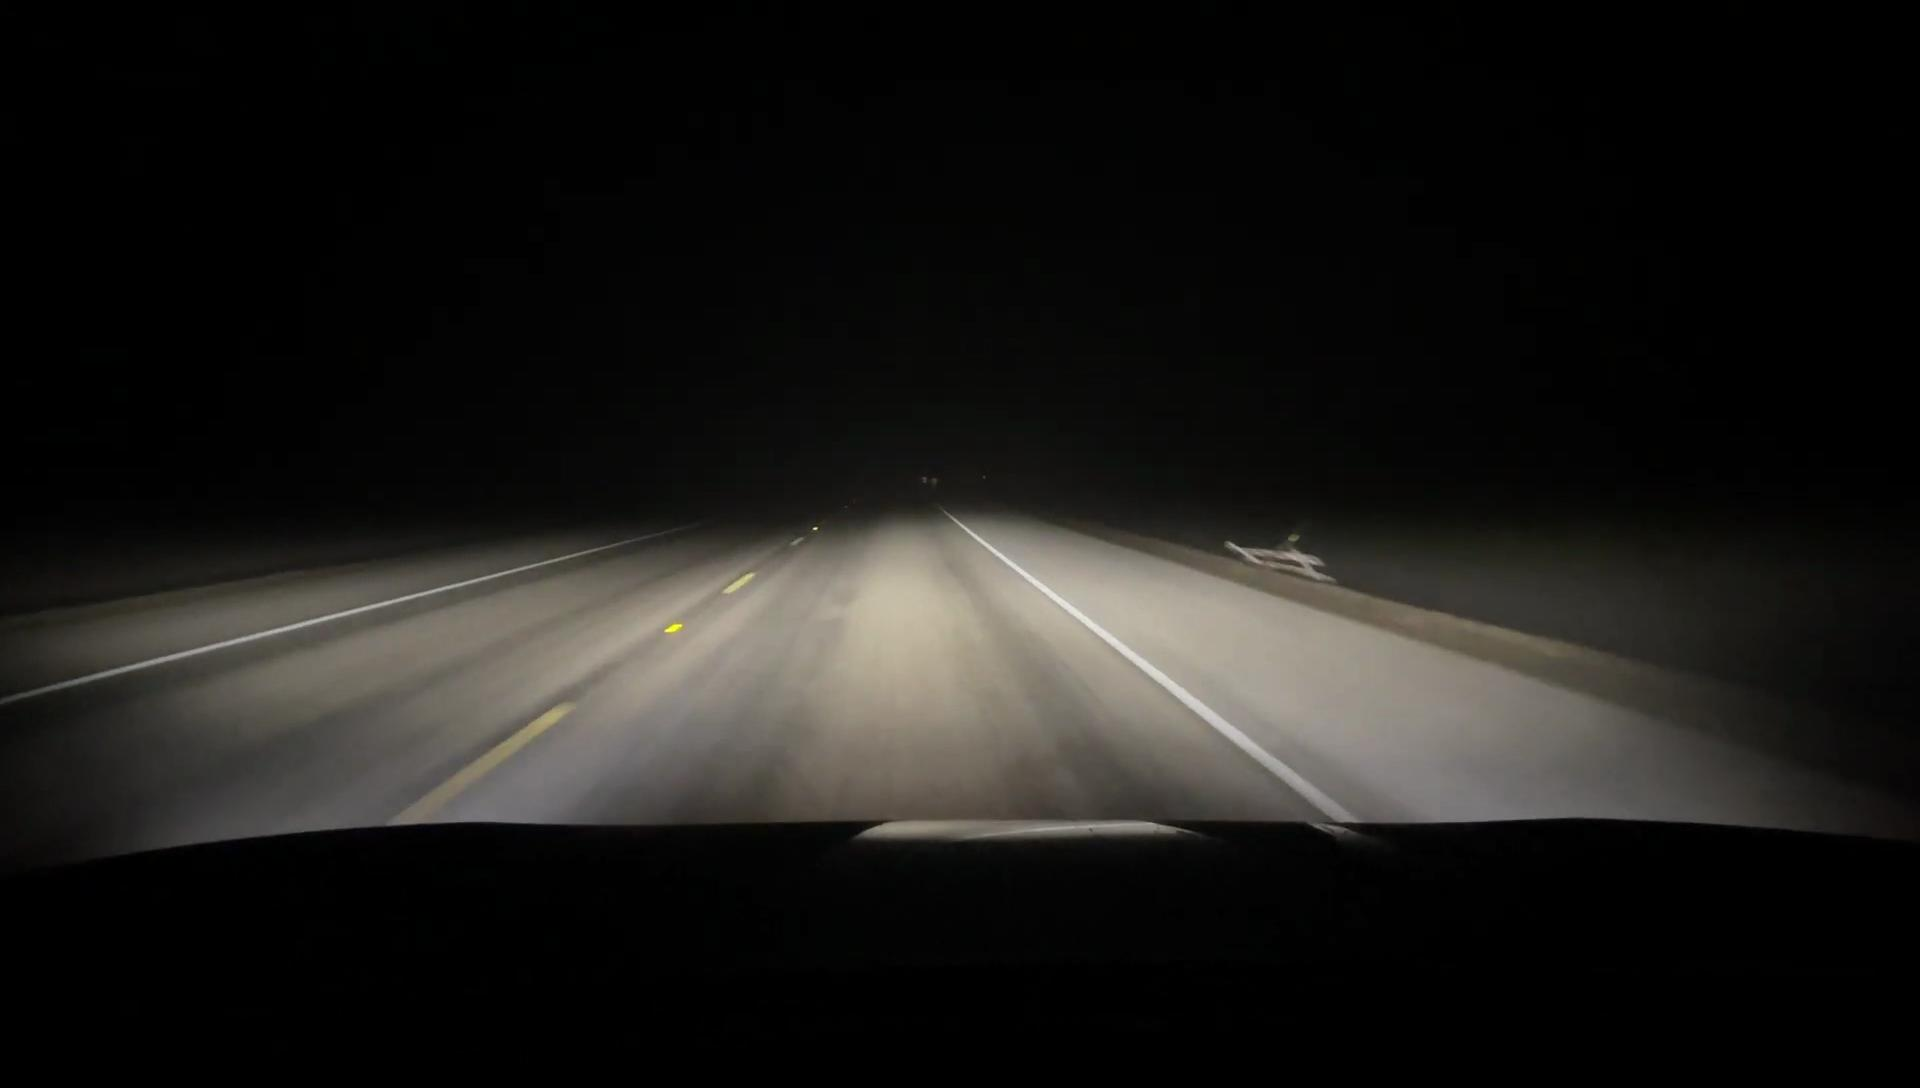road-lanes: (418, 495, 1332, 818)
